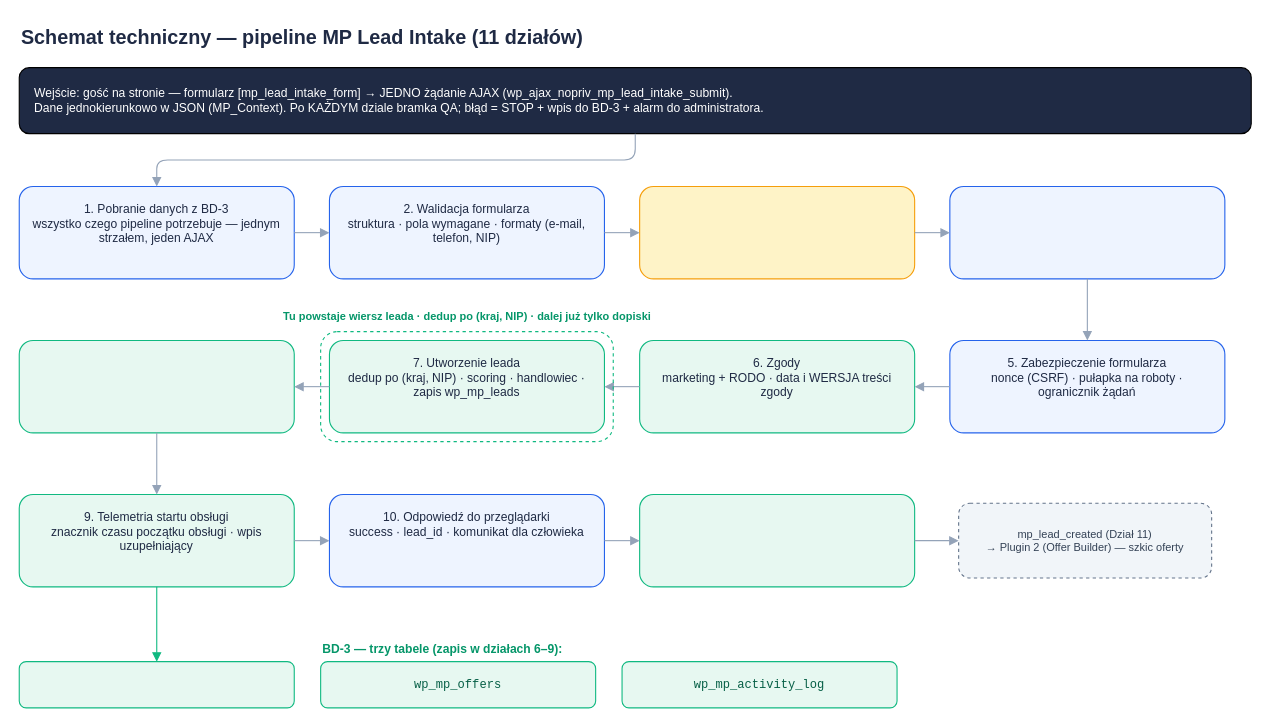
This 1271x727 diagram has some shape labels left out. Each missing label, with the box of its shape:
11. Zamknięcie i zdarzenie sprzątanie · raport · mp_lead_created → Plugin 2: (639, 493, 915, 587)
3. NIP / VAT suma kontrolna NIP · VIES (VAT UE) · Biała lista KAS: (639, 185, 915, 279)
4. Kraj i segment ISO 3166-1 · segment · kategoria klienta: (949, 185, 1225, 279)
8. Historia aktywności wpis operacji do wp_mp_activity_log: (18, 339, 294, 433)
wp_mp_leads: (18, 661, 294, 708)
